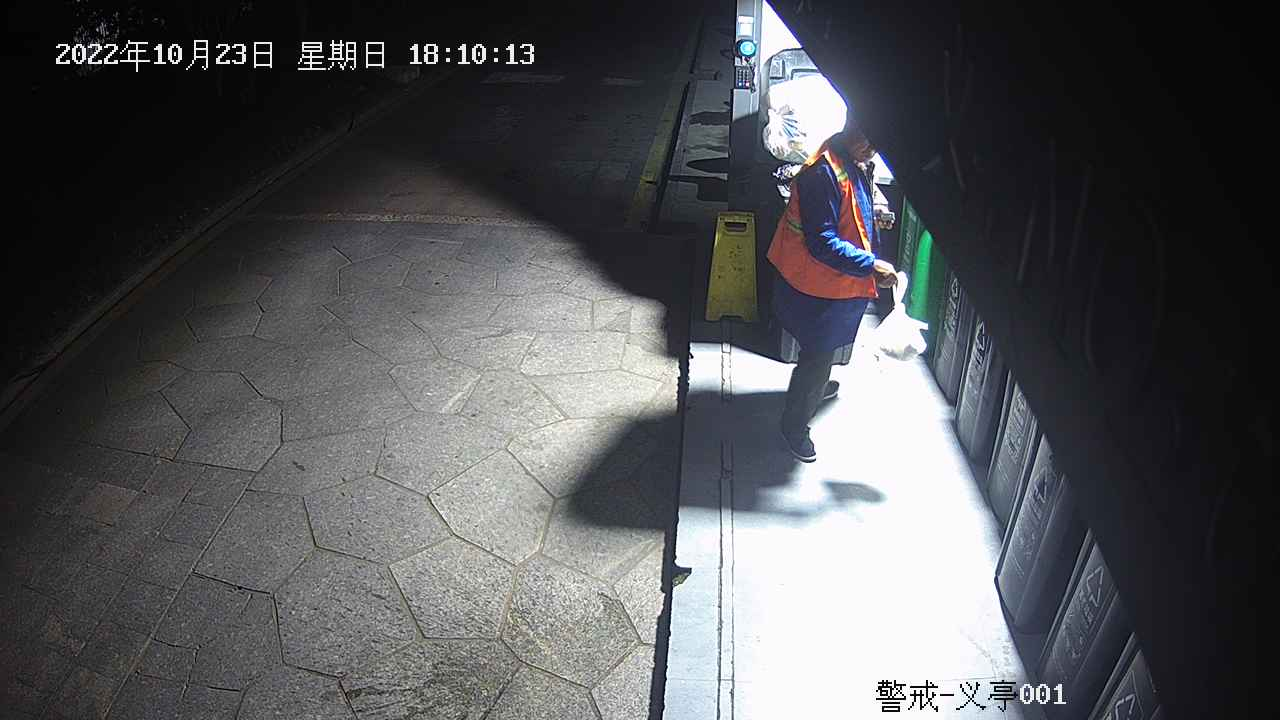garbage-bag: (865, 269, 931, 361)
worker: (764, 105, 900, 464)
